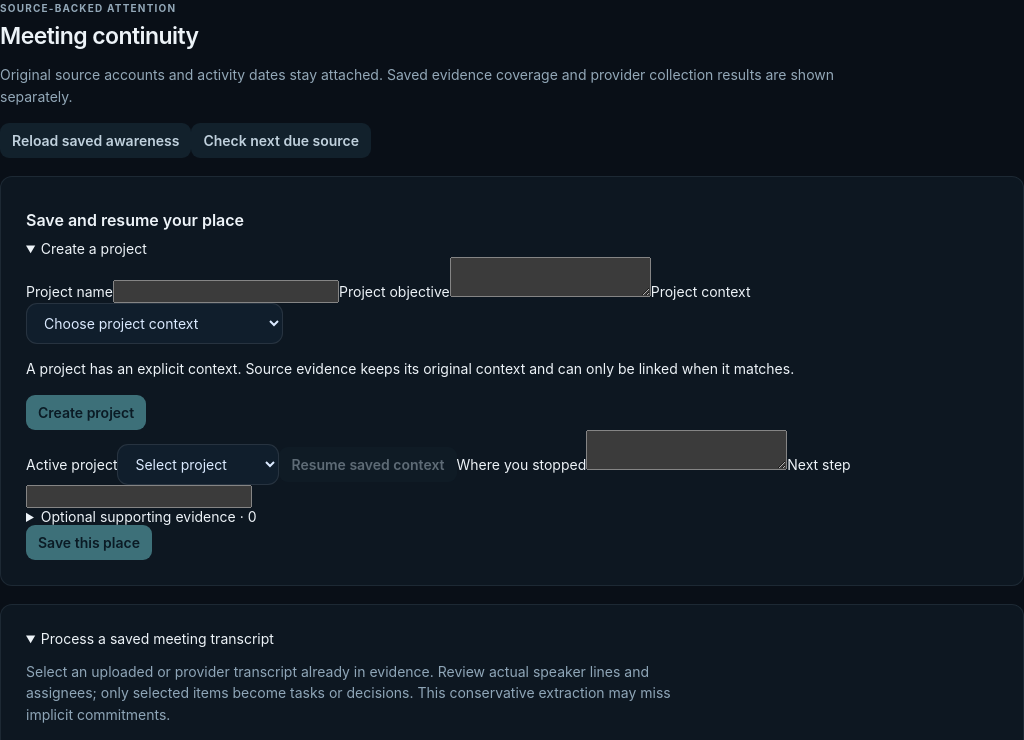
it: lets an unclassified project retain unknown context explicitly
Type "Unclassified follow-ups" into the field labelled "Project name". click: (226, 292)
box: [113,280,339,303]
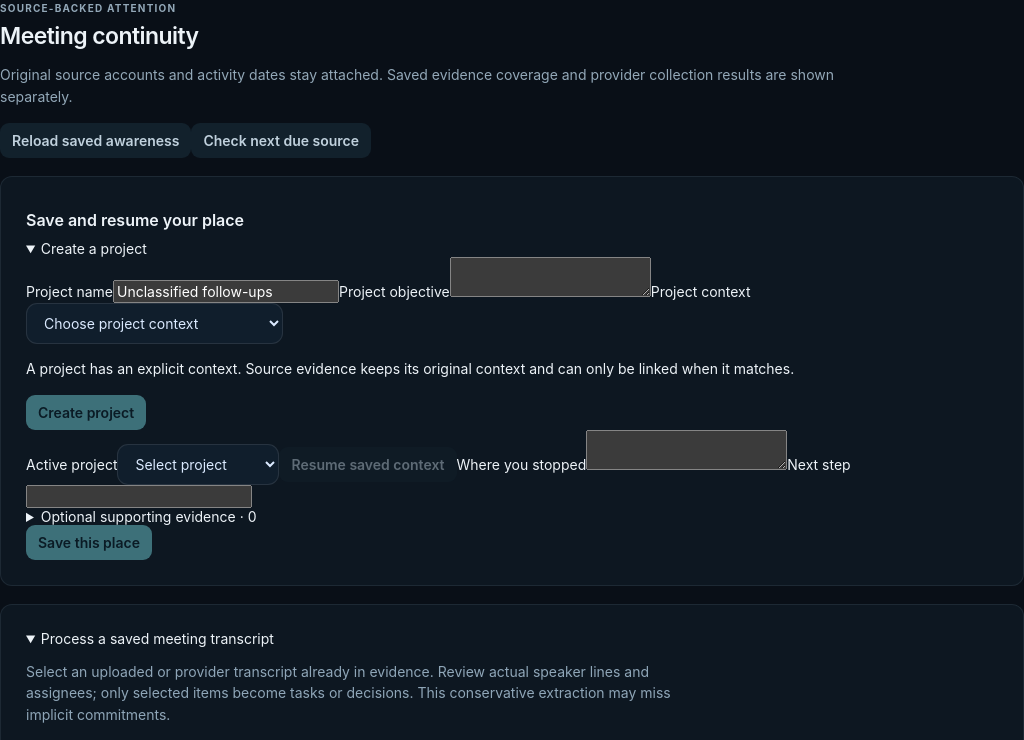
Type "Preserve the source context" into the text box labelled "Project objective". click: (550, 277)
box: [450,257,651,297]
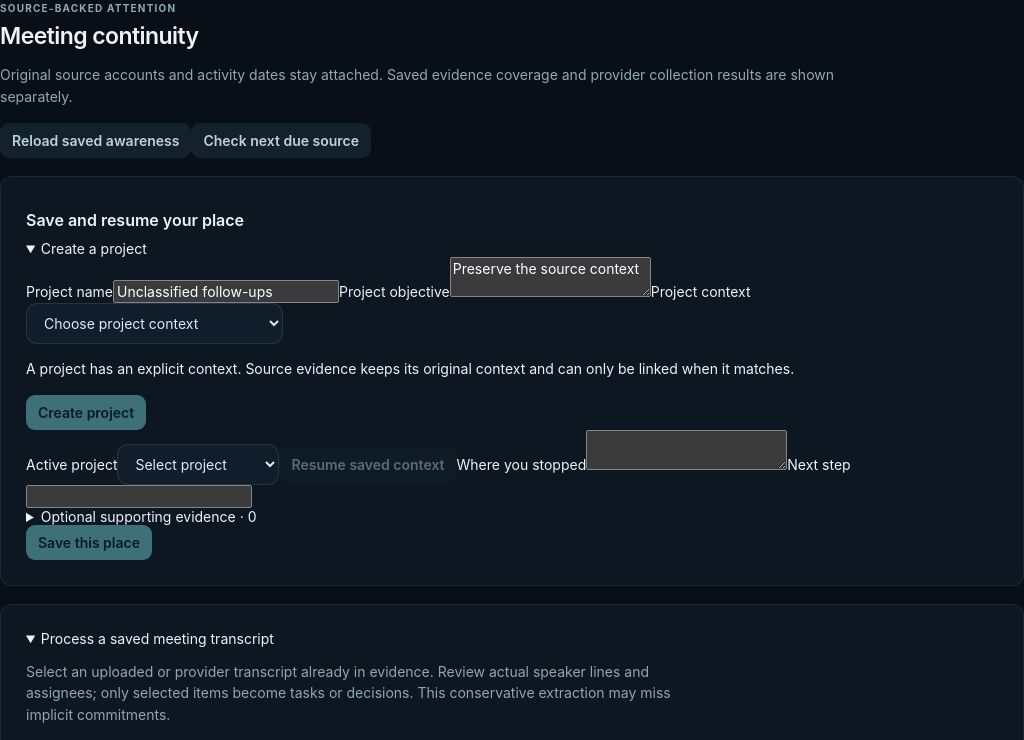
Select "Unknown · not yet classified" in the dropdown labelled "Project context". click: (154, 324)
box: [26,303,283,344]
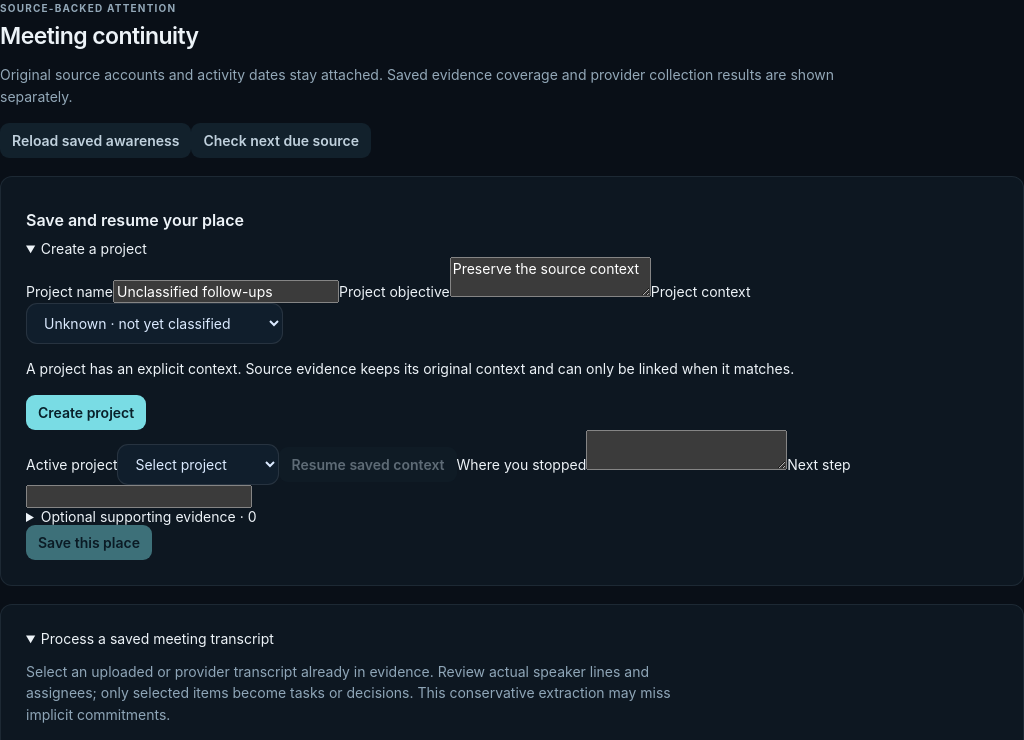
Click the button "Create project". click: (86, 412)
box: [26,395,146,430]
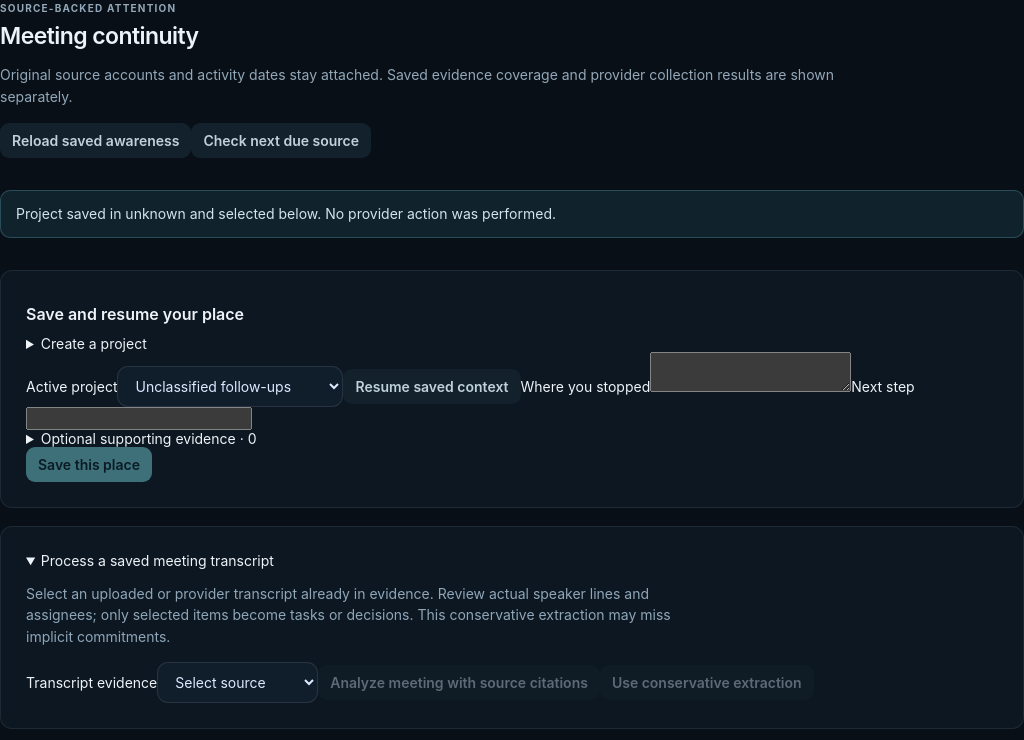
Check: the text "Project saved in unknown and selected below. No provider action was performed." is shown, box [0,190,1023,238]
